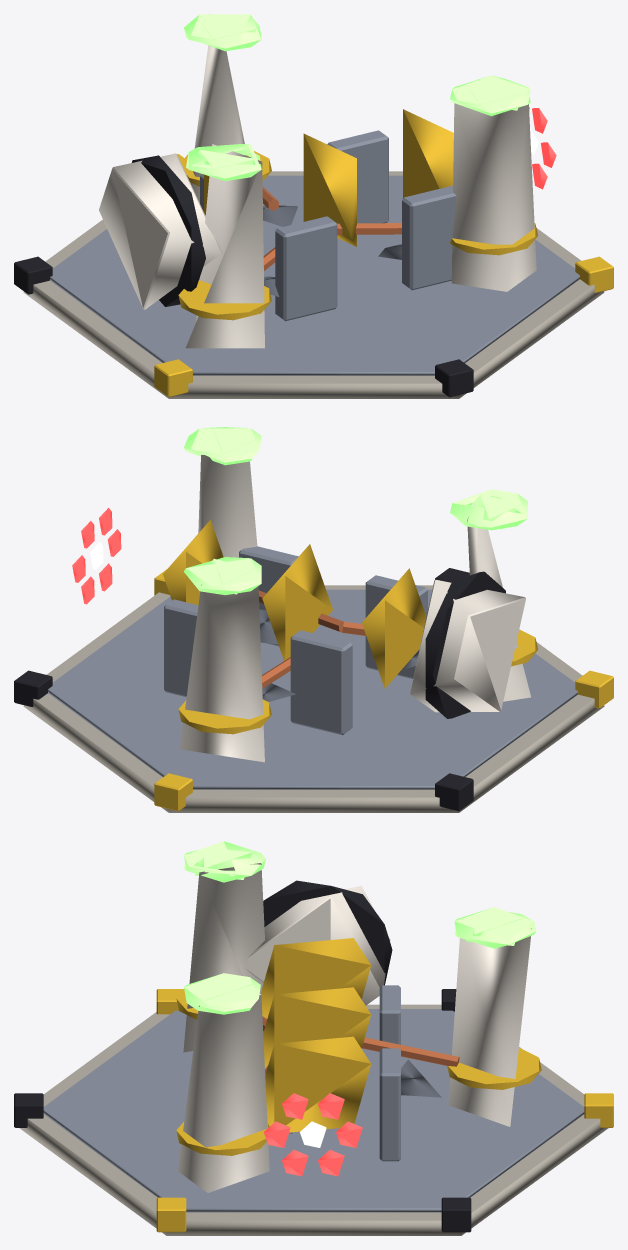
Rendered from cracker.glb.
3 views of the same model, one above another, from view 1: azimuth 30°, elevation 25°; view 2: azimuth 150°, elevation 25°; view 3: azimuth 270°, elevation 25° (orthographic).
Visible parts, largest first — view 1: cracker; view 2: cracker; view 3: cracker.
Boxes of the visible parts, x1=… form: cracker: x1=14, y1=14, x2=613, y2=398; cracker: x1=14, y1=427, x2=613, y2=812; cracker: x1=14, y1=841, x2=613, y2=1235.
Bounding box in the file's own units: 247 × 106 × 283.
1 material, 1 textured.
